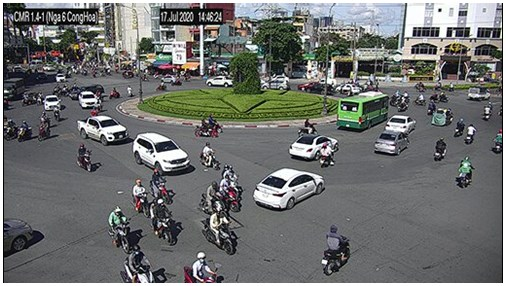xe_ban_tai: (77, 117, 129, 147), (206, 76, 234, 87)
xe_hoi: (253, 167, 326, 211), (134, 133, 189, 176), (288, 134, 338, 160), (2, 219, 34, 255), (372, 130, 409, 156), (383, 114, 416, 136), (78, 92, 99, 109), (305, 84, 333, 95), (261, 79, 288, 90), (334, 84, 360, 93), (55, 74, 66, 83)
xe_may: (201, 206, 234, 255), (321, 224, 351, 275), (119, 245, 155, 283), (199, 181, 229, 222), (183, 250, 219, 284), (150, 198, 173, 245), (108, 205, 130, 254), (131, 179, 150, 219), (219, 174, 238, 212), (151, 168, 170, 205), (222, 164, 243, 194), (199, 142, 220, 170), (457, 156, 475, 188), (193, 117, 219, 139), (76, 142, 92, 173), (318, 141, 335, 168), (298, 118, 318, 140), (206, 113, 224, 134), (17, 120, 33, 143), (37, 118, 52, 142), (432, 137, 447, 161), (5, 119, 17, 141), (492, 128, 502, 154), (464, 124, 476, 145), (454, 118, 465, 137), (21, 91, 34, 107), (397, 96, 409, 113), (413, 92, 426, 107), (389, 93, 401, 108), (481, 104, 491, 121), (436, 88, 447, 103), (51, 103, 60, 121), (108, 87, 120, 100), (39, 111, 48, 127), (60, 84, 70, 98), (414, 81, 426, 92), (35, 90, 43, 106), (427, 99, 435, 115), (156, 80, 167, 91), (52, 83, 60, 96), (126, 83, 133, 97), (90, 107, 97, 117)
xe_tai: (467, 85, 490, 100)
